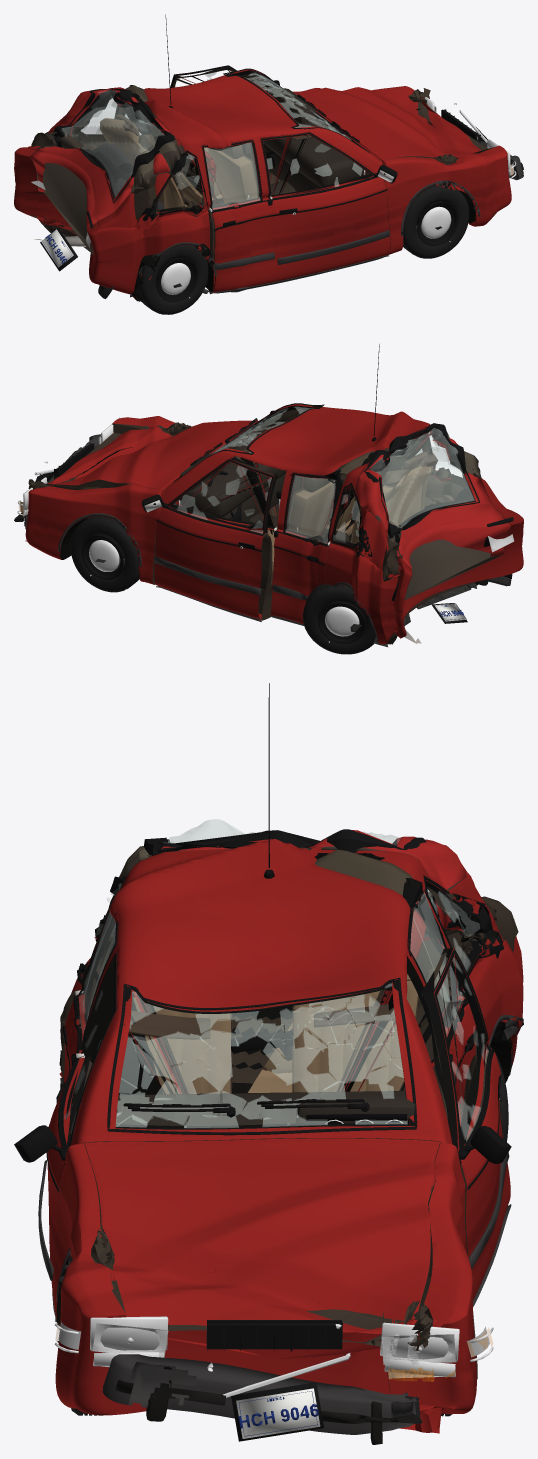
Rendered from hatchback85_rear_d2_lod1.glb.
3 renders of one model, top to bottom at view 1: azimuth 30°, elevation 25°; view 2: azimuth 150°, elevation 25°; view 3: azimuth 270°, elevation 25°, orthographic. The views are drawn at different scales.
Parts seen in each view (by area): view 1: Body, Interior, Door_FR, Hatch, Hood, Glass_Hatch, Door_RR, Wheel_FR_mesh, Wheel_RR_mesh, Glass_RR, Trim_FR, Glass (+6 smaller); view 2: Body, Door_FL, Interior, Hatch, Hood, Glass_Hatch, Wheel_FL_mesh, Door_RL, Wheel_RL_mesh, Glass_RL, Trim_FL, Ends (+5 smaller); view 3: Body, Hood, Glass, Interior, Ends, Bumper_F, Door_FL, Hatch, Trim_FL, Trim, Door_FR, Glass_Hatch (+6 smaller).
Boxes of the visible parts, x1,y1,x2,y2 form: Body: [14, 69, 511, 301]; Interior: [44, 77, 363, 208]; Door_FR: [260, 132, 390, 281]; Hatch: [30, 88, 181, 255]; Hood: [294, 87, 481, 161]; Glass_Hatch: [54, 88, 174, 203]; Door_RR: [201, 139, 276, 292]; Wheel_FR_mesh: [403, 185, 469, 258]; Wheel_RR_mesh: [139, 245, 208, 314]; Glass_RR: [202, 142, 262, 210]; Trim_FR: [261, 132, 397, 283]; Glass: [75, 68, 369, 219]; Body: [25, 404, 523, 644]; Door_FL: [154, 457, 277, 620]; Interior: [179, 411, 453, 574]; Hatch: [354, 424, 510, 599]; Hood: [45, 422, 254, 490]; Glass_Hatch: [364, 423, 480, 543]; Wheel_FL_mesh: [70, 516, 139, 592]; Door_RL: [271, 472, 341, 623]; Wheel_RL_mesh: [302, 584, 376, 654]; Glass_RL: [283, 475, 341, 544]; Trim_FL: [141, 459, 273, 621]; Ends: [17, 417, 514, 623]; Body: [54, 839, 523, 1433]; Hood: [84, 1138, 440, 1341]; Glass: [80, 876, 504, 1135]; Interior: [116, 964, 444, 1125]; Ends: [54, 1316, 493, 1441]; Bumper_F: [102, 1354, 422, 1444]; Door_FL: [421, 948, 510, 1300]; Hatch: [119, 830, 466, 940]; Trim_FL: [434, 949, 511, 1306]; Trim: [56, 683, 523, 1379]; Door_FR: [47, 951, 117, 1309]; Glass_Hatch: [144, 819, 457, 927].
Size of the model in its own units: 3.8 by 2.19 by 1.96.
32 materials, 5 textured.
